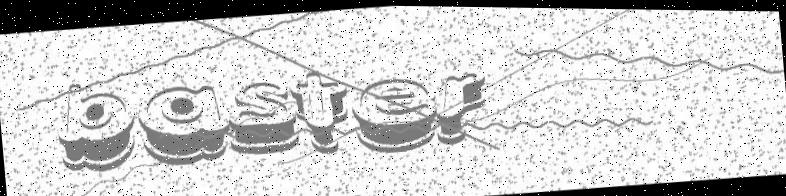a: (135, 79, 233, 170)
b: (54, 78, 138, 176)
e: (349, 73, 440, 157)
r: (435, 68, 491, 146)
s: (227, 77, 303, 157)
t: (288, 66, 352, 158)
